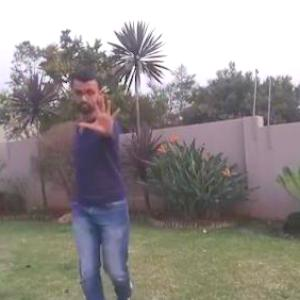follow_hand: (76, 93, 124, 138)
